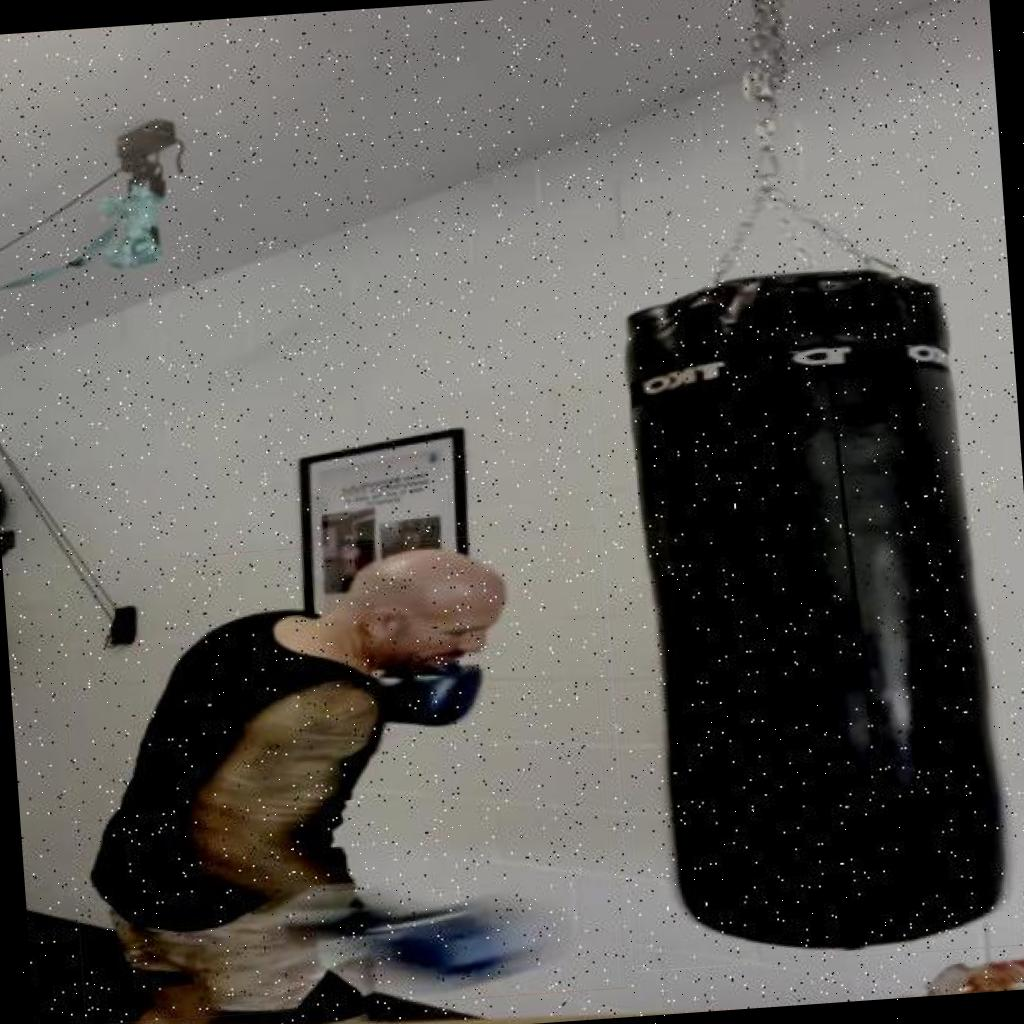bag: (584, 257, 1022, 972)
uppercut: (53, 527, 626, 1024)
